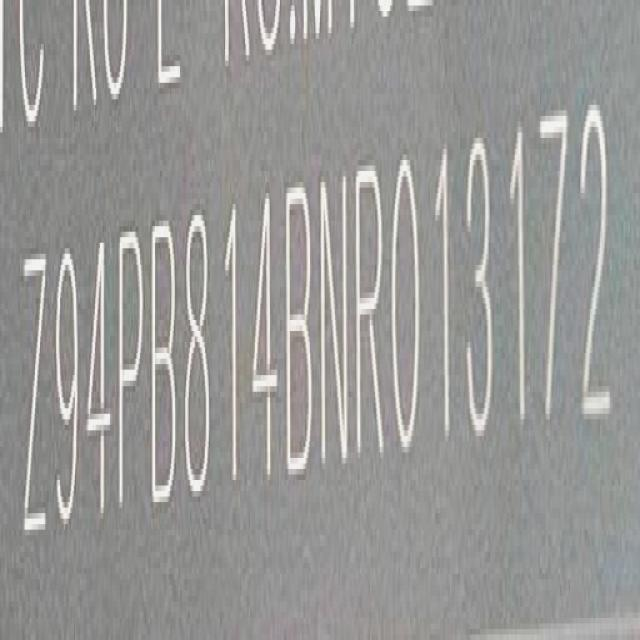0: (389, 149, 421, 462)
1: (433, 145, 453, 446), (508, 121, 527, 431), (223, 198, 241, 495)
2: (576, 98, 613, 423)
3: (463, 141, 495, 447)
4: (247, 186, 280, 478), (85, 239, 114, 525)
7: (536, 104, 571, 437)
8: (183, 214, 212, 500)
9: (52, 241, 81, 540)
B: (283, 178, 314, 480), (150, 213, 178, 519)
N: (319, 170, 350, 476)
P: (116, 225, 144, 519)
R: (354, 161, 386, 464)
Z: (22, 241, 49, 542)
